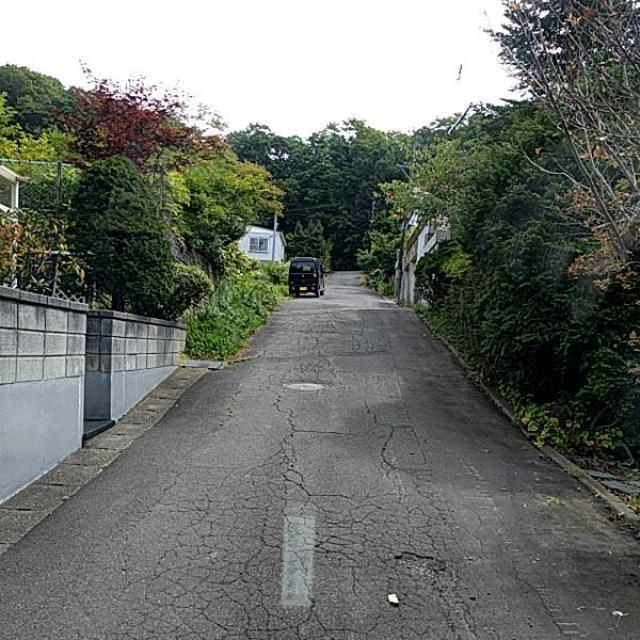Retak Buaya: (138, 477, 472, 640)
